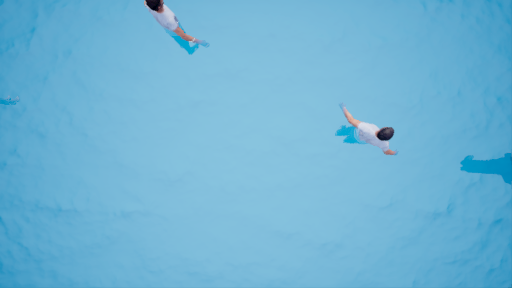person: (333, 98, 404, 163), (131, 1, 214, 56)
